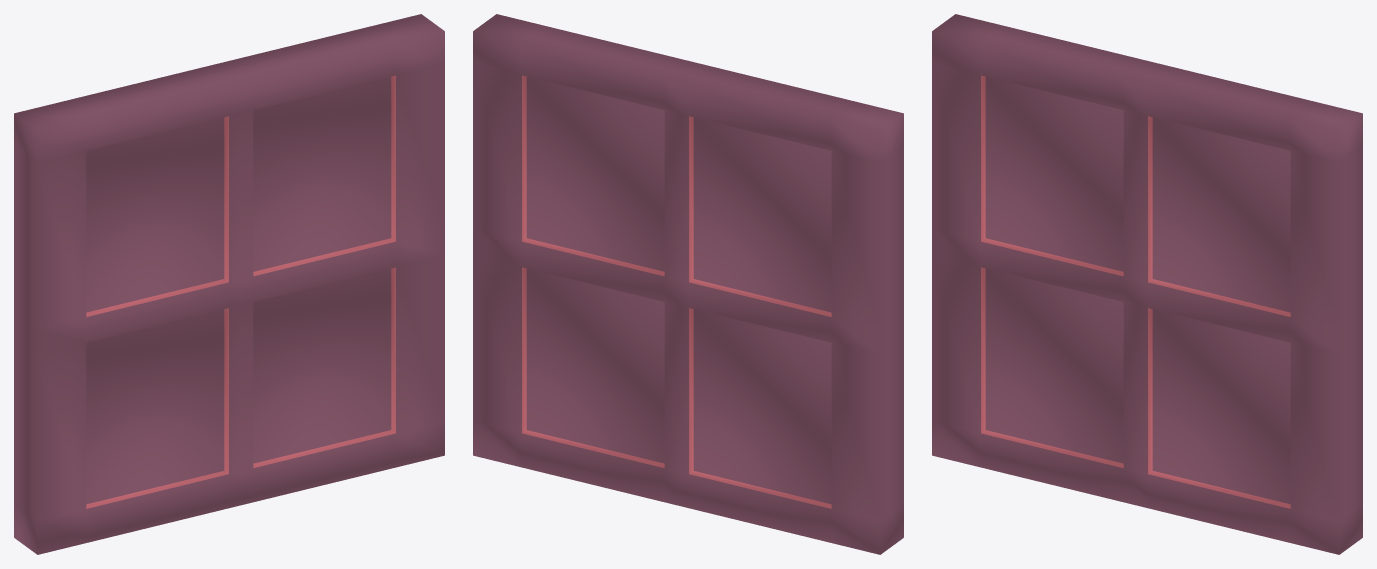
Rendered from dungeon_door.glb.
3 views of the same model, side by side, from view 1: azimuth 30°, elevation 25°; view 2: azimuth 150°, elevation 25°; view 3: azimuth 330°, elevation 25° (orthographic).
Visible parts, largest first — view 1: Cube.001; view 2: Cube.001; view 3: Cube.001.
Part boxes in pixels (bbox=[...]): Cube.001: bbox=[14, 14, 444, 554]; Cube.001: bbox=[473, 14, 903, 554]; Cube.001: bbox=[932, 14, 1362, 554].
Size of the model in its own units: 5 by 4.98 by 0.5.
Materials: 1 (1 with a texture image).
